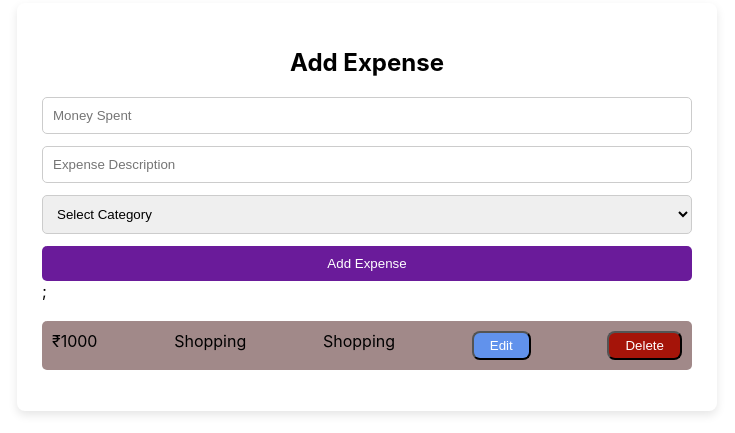
Test: Async test cases › Deletes expense on delete click
This screenshot has width=735, height=433.
Click the button "Delete". click: click(645, 345)
box: [607,331,682,360]
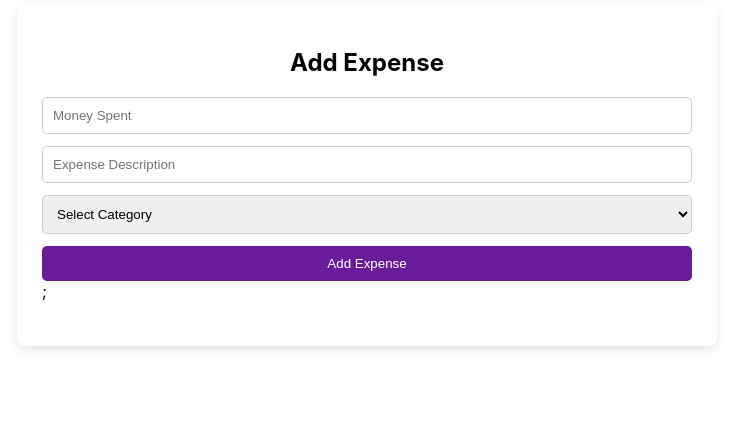
Expected: the text "₹1000" is gone
